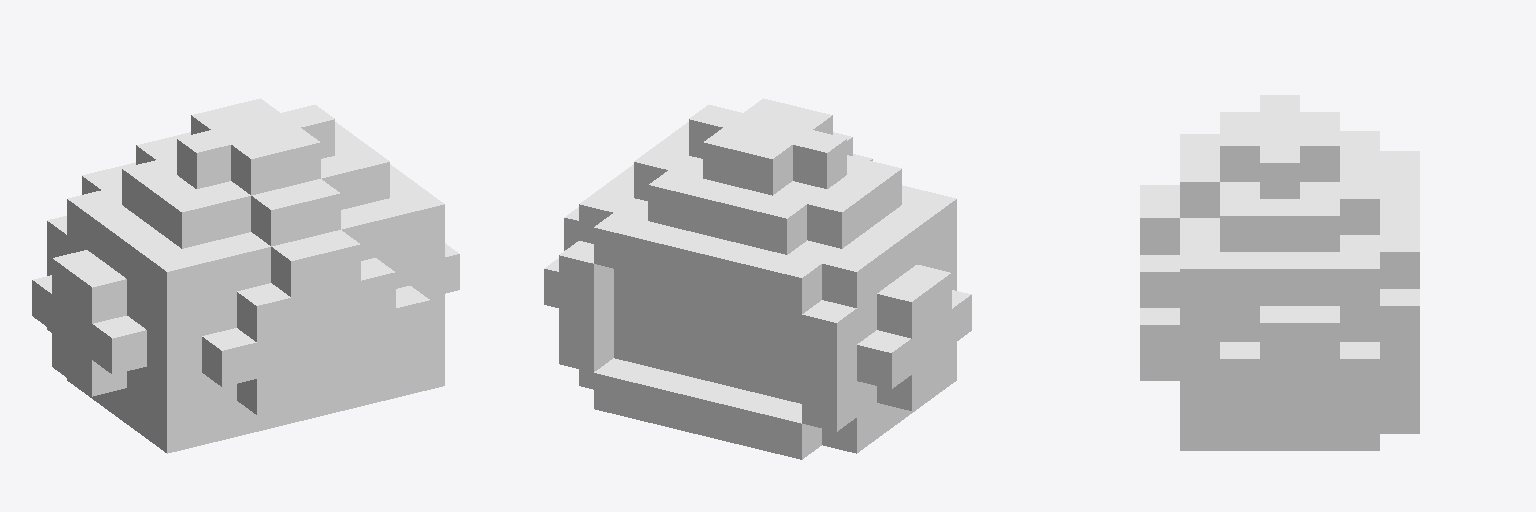
File: anim_player_snowman_head.obj
3 views of the same model, side by side, from view 1: azimuth 30°, elevation 25°; view 2: azimuth 150°, elevation 25°; view 3: azimuth 270°, elevation 25° (orthographic).
Visible parts, largest first — view 1: object 1; view 2: object 1; view 3: object 1.
Boxes of the visible parts, <box> form: object 1: <box>32,98,459,453</box>; object 1: <box>544,98,971,459</box>; object 1: <box>1140,95,1419,450</box>.
Bounding box in the file's own units: 1 × 0.7 × 0.7.